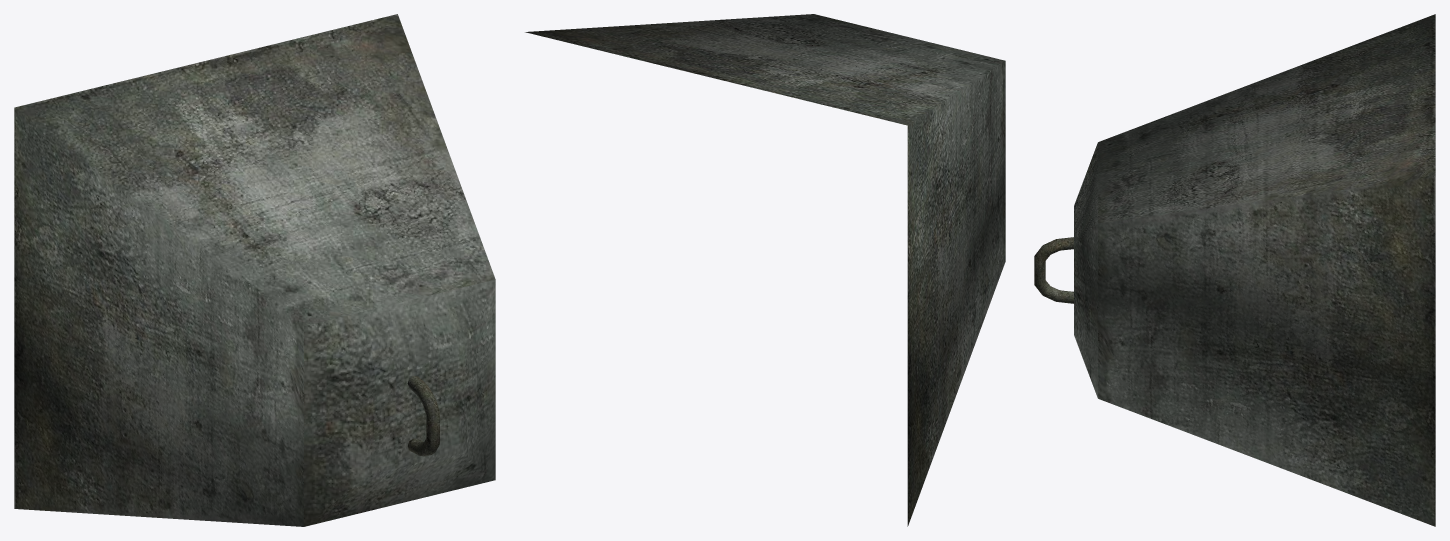
Rendered from hill400_dragonstooth.glb.
3 renders of one model, left to right at view 1: azimuth 30°, elevation 25°; view 2: azimuth 150°, elevation 25°; view 3: azimuth 270°, elevation 25°, orthographic. The views are drawn at different scales.
Size of the model in its own units: 64 by 64 by 66.56.
1 material, 1 textured.
